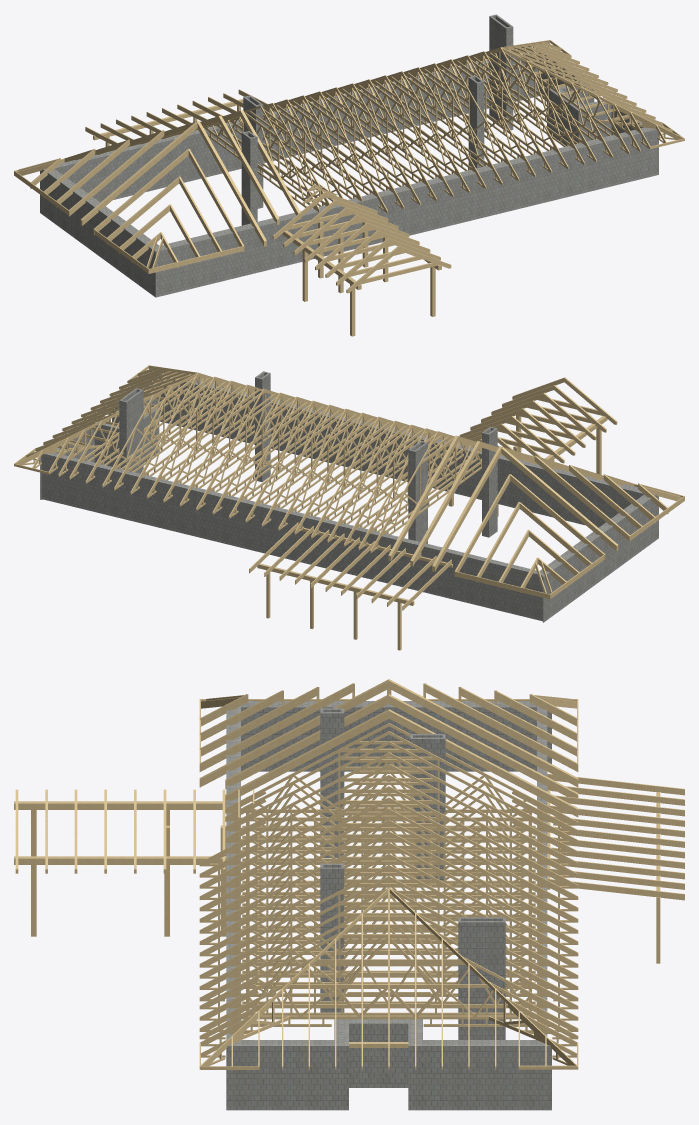
The picture shows the model from 3 angles, top to bottom: view 1: azimuth 30°, elevation 25°; view 2: azimuth 150°, elevation 25°; view 3: azimuth 270°, elevation 25°; orthographic projection. The views are drawn at different scales.
Parts seen in each view (by area): view 1: Model, IfcBuild37, IfcBuild14, IfcBuild22, IfcBuild27, IfcBuild10, IfcBuild72, IfcBuild39, IfcBuild11, IfcBuild21, IfcBuild23, IfcBuild04 (+18 smaller); view 2: Model, IfcBuild22, IfcBuild14, IfcBuild37, IfcBuild27, IfcBuild04, IfcBuild72, IfcBuild39, IfcBuild10, IfcBuild11, IfcBuild43, IfcBuild23 (+16 smaller); view 3: Model, IfcBuild02, IfcBuild08, IfcBuild22, IfcBuild21, IfcBuild20, IfcBuild37, IfcBuild04, IfcBuild11, IfcBuild72, IfcBuild64, IfcBuild10 (+11 smaller).
Part boxes in pixels (left/top/right/bottom): Model: left=14, top=14, right=684, bottom=336; IfcBuild37: left=273, top=87, right=404, bottom=209; IfcBuild14: left=352, top=67, right=486, bottom=189; IfcBuild22: left=287, top=83, right=420, bottom=205; IfcBuild27: left=369, top=63, right=502, bottom=185; IfcBuild10: left=322, top=75, right=453, bottom=197; IfcBuild72: left=303, top=79, right=437, bottom=201; IfcBuild39: left=385, top=59, right=519, bottom=181; IfcBuild11: left=338, top=71, right=470, bottom=193; IfcBuild21: left=263, top=91, right=387, bottom=213; IfcBuild23: left=418, top=51, right=552, bottom=173; IfcBuild04: left=434, top=47, right=568, bottom=169; Model: left=14, top=365, right=684, bottom=650; IfcBuild22: left=278, top=408, right=407, bottom=530; IfcBuild14: left=212, top=392, right=341, bottom=514; IfcBuild37: left=294, top=412, right=422, bottom=534; IfcBuild27: left=196, top=388, right=325, bottom=510; IfcBuild04: left=130, top=372, right=254, bottom=494; IfcBuild72: left=261, top=404, right=391, bottom=526; IfcBuild39: left=179, top=384, right=308, bottom=506; IfcBuild10: left=245, top=400, right=374, bottom=522; IfcBuild11: left=228, top=396, right=358, bottom=518; IfcBuild43: left=370, top=431, right=481, bottom=553; IfcBuild23: left=146, top=376, right=276, bottom=498; Model: left=14, top=679, right=684, bottom=1110; IfcBuild02: left=199, top=956, right=578, bottom=1020; IfcBuild08: left=199, top=981, right=578, bottom=1031; IfcBuild22: left=199, top=786, right=578, bottom=888; IfcBuild21: left=199, top=763, right=578, bottom=866; IfcBuild20: left=225, top=741, right=578, bottom=843; IfcBuild37: left=199, top=775, right=578, bottom=877; IfcBuild04: left=199, top=887, right=578, bottom=989; IfcBuild11: left=199, top=820, right=578, bottom=922; IfcBuild72: left=199, top=797, right=578, bottom=899; IfcBuild64: left=225, top=752, right=578, bottom=854; IfcBuild10: left=199, top=808, right=578, bottom=911.
Bounding box in the file's own units: 29401 × 7045 × 22675.
Materials: 2 (2 with a texture image).
